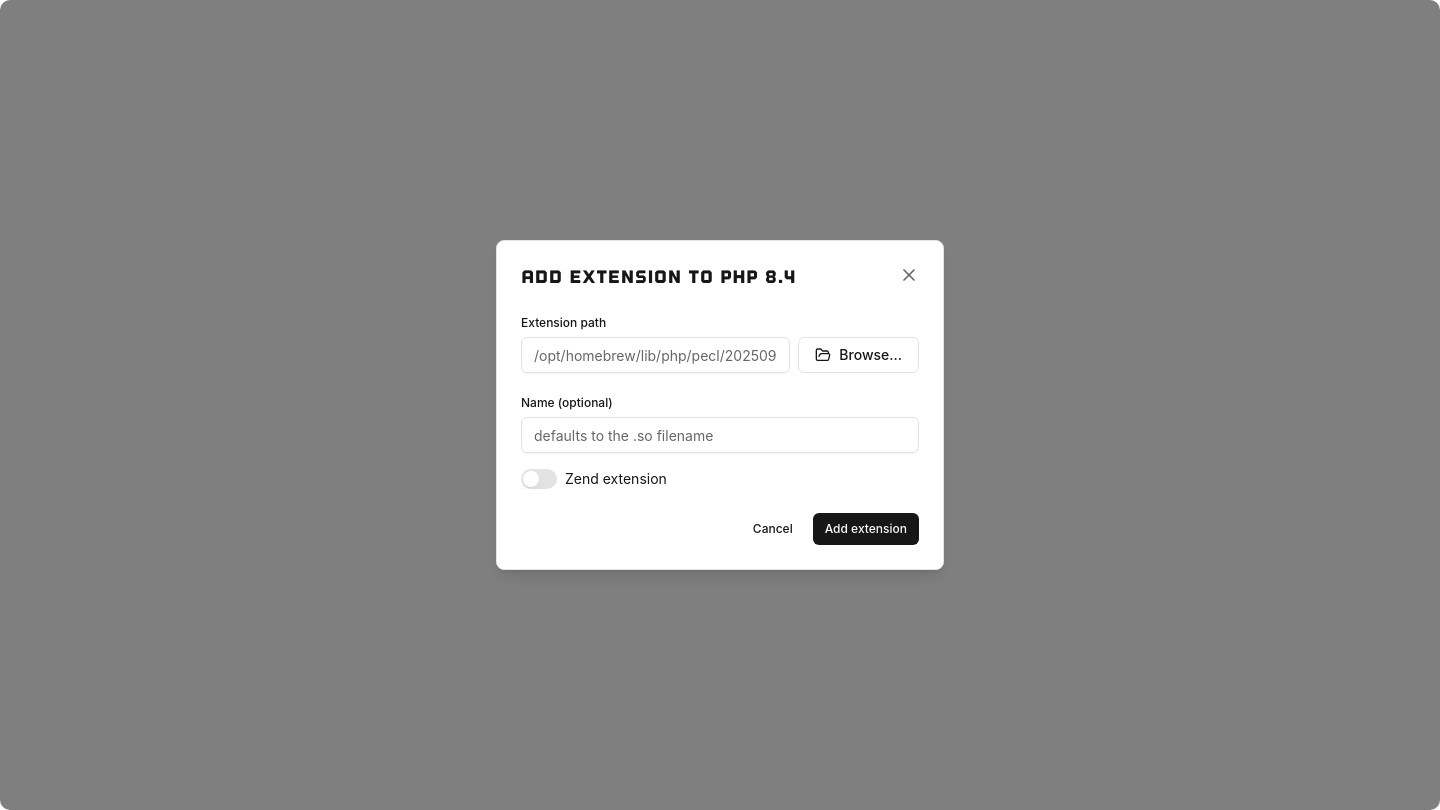
Test: AddExtensionModal › refuses to submit without a path
Click the button "Add extension": click(866, 529) [813,513,919,545]
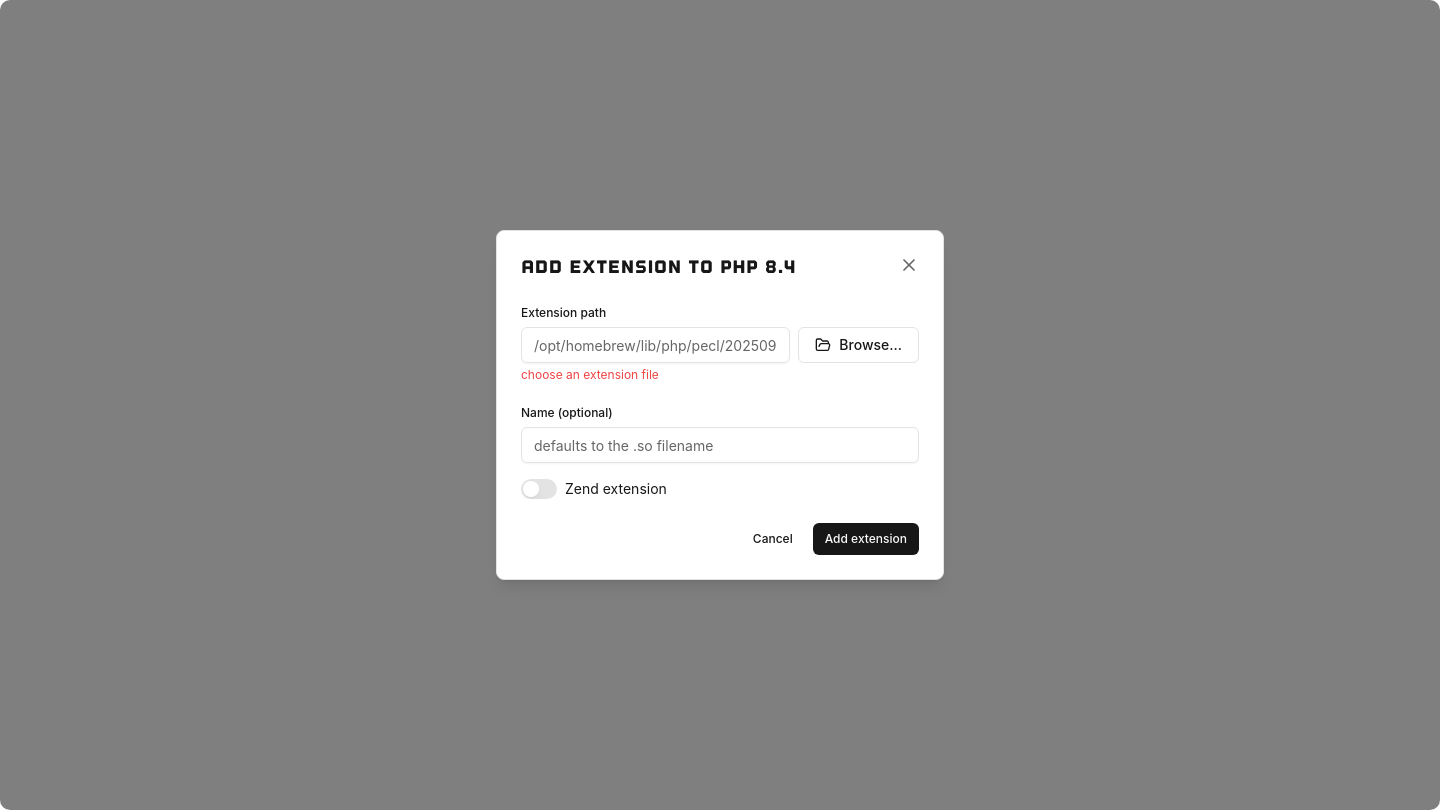
Expected: the text "choose an extension file" is shown, [521,367,659,382]
